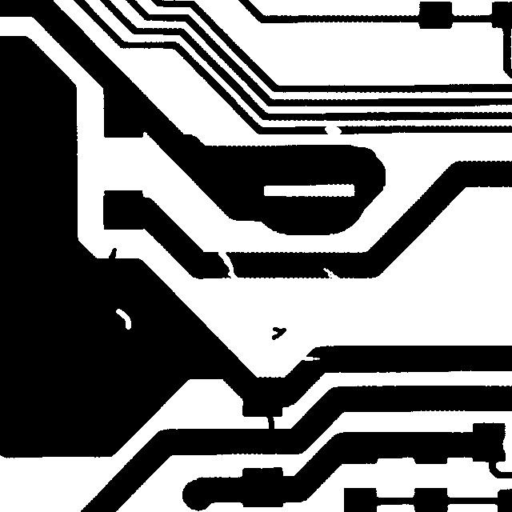copper: (264, 319, 294, 347)
mousebite: (315, 260, 346, 286), (292, 346, 327, 368)
open: (210, 242, 245, 287), (317, 118, 349, 142)
pin-hole: (108, 301, 138, 337)
short: (258, 406, 282, 439)
spur: (101, 240, 124, 267)
